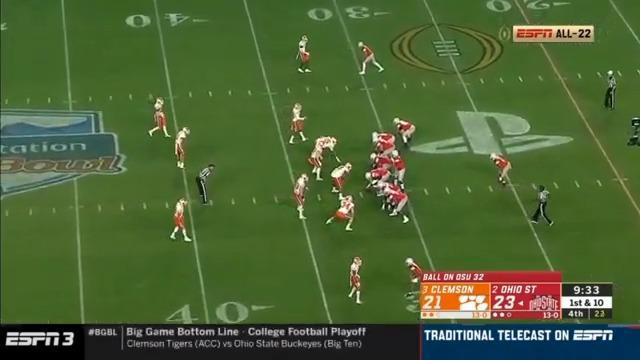defense: (328, 193, 357, 233), (145, 96, 170, 142), (346, 255, 366, 306), (307, 137, 329, 182), (172, 198, 193, 244), (291, 173, 310, 221), (288, 101, 308, 145), (175, 125, 194, 171), (330, 162, 354, 196), (312, 136, 342, 163), (295, 33, 312, 76)
oline: (381, 188, 410, 225), (363, 169, 390, 193), (375, 182, 399, 206), (374, 136, 399, 158), (370, 153, 394, 169)
qb: (388, 153, 407, 192)
ref: (530, 182, 552, 227), (197, 163, 217, 207), (601, 69, 618, 113)
skill: (355, 40, 385, 79), (489, 151, 512, 189), (393, 116, 418, 148), (406, 258, 424, 302), (372, 131, 397, 149)
